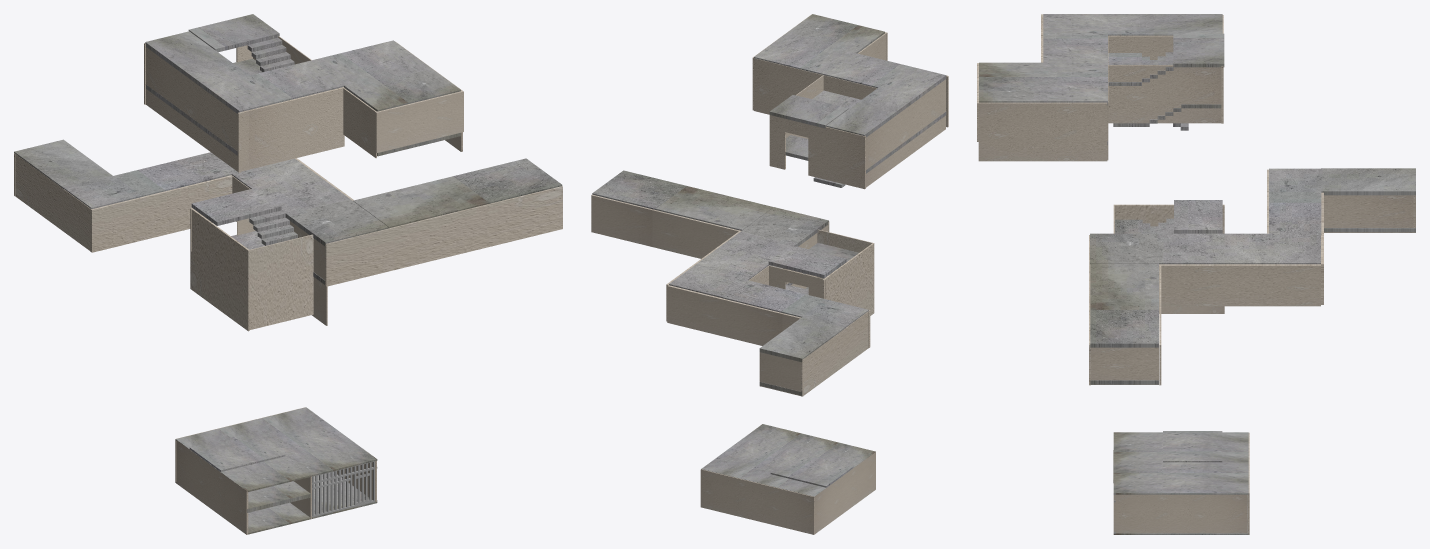
File: B_Building_Inside.fbx
3 renders of one model, left to right at view 1: azimuth 30°, elevation 25°; view 2: azimuth 150°, elevation 25°; view 3: azimuth 270°, elevation 25°, orthographic. The views are drawn at different scales.
Parts seen in each view (by area): view 1: polySurface101, polySurface149, polySurface65, polySurface153, polySurface135, polySurface73, polySurface67, polySurface115, polySurface70, polySurface121, polySurface45, Stairs_01 (+7 smaller); view 2: polySurface101, polySurface149, polySurface153, polySurface64, polySurface10, polySurface63, polySurface114, polySurface115, polySurface119, polySurface150, polySurface61, polySurface4 (+7 smaller); view 3: polySurface101, polySurface149, polySurface134, polySurface59, polySurface153, polySurface113, polySurface9, polySurface150, polySurface62, polySurface45, polySurface69, Stairs_01 (+4 smaller).
Part boxes in pixels (<box>): polySurface101: <box>14,139,562,245</box>; polySurface149: <box>145,31,460,113</box>; polySurface65: <box>325,186,562,286</box>; polySurface153: <box>176,407,377,491</box>; polySurface135: <box>237,87,344,171</box>; polySurface73: <box>247,234,313,330</box>; polySurface67: <box>90,175,232,252</box>; polySurface115: <box>146,47,240,172</box>; polySurface70: <box>190,207,249,331</box>; polySurface121: <box>375,91,463,153</box>; polySurface45: <box>191,188,297,249</box>; Stairs_01: <box>189,432,310,512</box>; polySurface101: <box>592,170,868,362</box>; polySurface149: <box>754,14,946,137</box>; polySurface153: <box>701,424,875,496</box>; polySurface64: <box>591,194,740,258</box>; polySurface10: <box>700,469,814,534</box>; polySurface63: <box>667,285,800,345</box>; polySurface114: <box>769,115,865,189</box>; polySurface115: <box>866,79,945,187</box>; polySurface119: <box>754,58,876,114</box>; polySurface150: <box>769,90,861,187</box>; polySurface61: <box>801,311,868,396</box>; polySurface4: <box>815,452,875,533</box>; polySurface101: <box>1090,168,1415,347</box>; polySurface149: <box>979,14,1222,105</box>; polySurface134: <box>978,102,1107,161</box>; polySurface59: <box>1159,264,1320,306</box>; polySurface153: <box>1113,432,1248,494</box>; polySurface113: <box>1108,65,1221,123</box>; polySurface9: <box>1113,494,1247,533</box>; polySurface150: <box>1108,33,1224,130</box>; polySurface62: <box>1324,195,1415,232</box>; polySurface45: <box>1115,200,1222,233</box>; polySurface69: <box>1089,344,1158,384</box>; Stairs_01: <box>1113,431,1222,482</box>.
Bounding box in the file's own units: 92.09 × 108 × 97.34.
